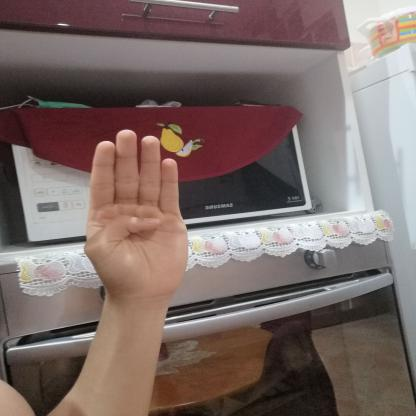KAAF: (67, 121, 204, 311)
